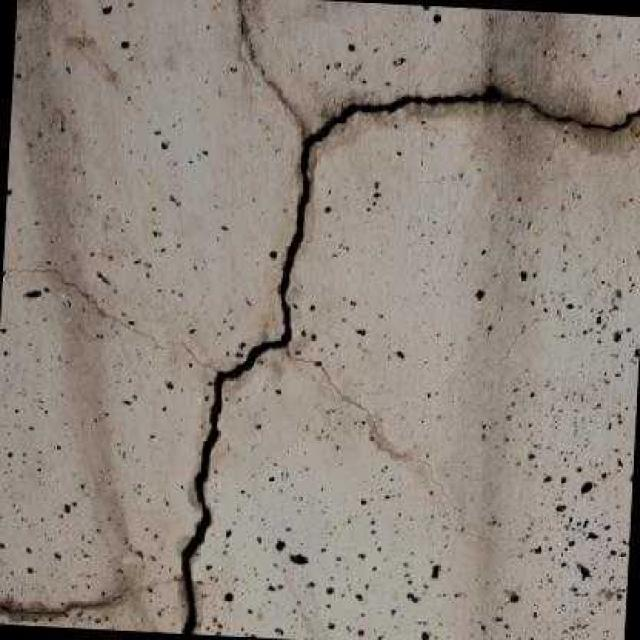D00: (178, 79, 640, 634)
